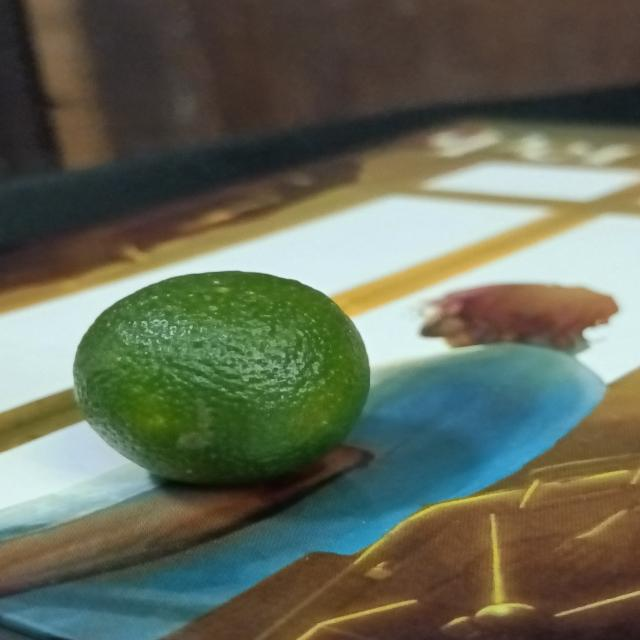heathy: (69, 270, 384, 495)
